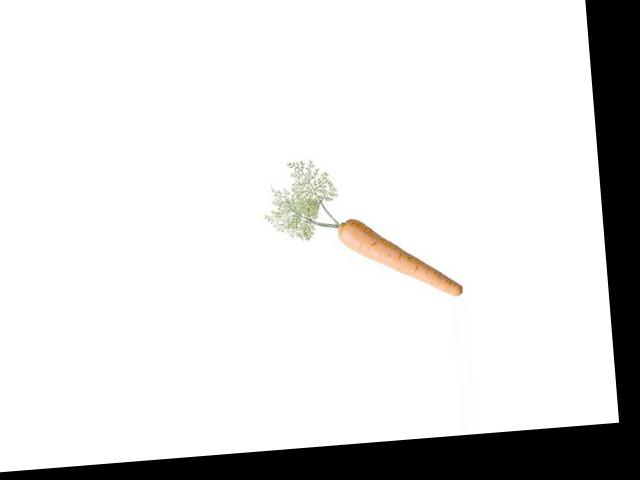carrot: (333, 206, 465, 305)
